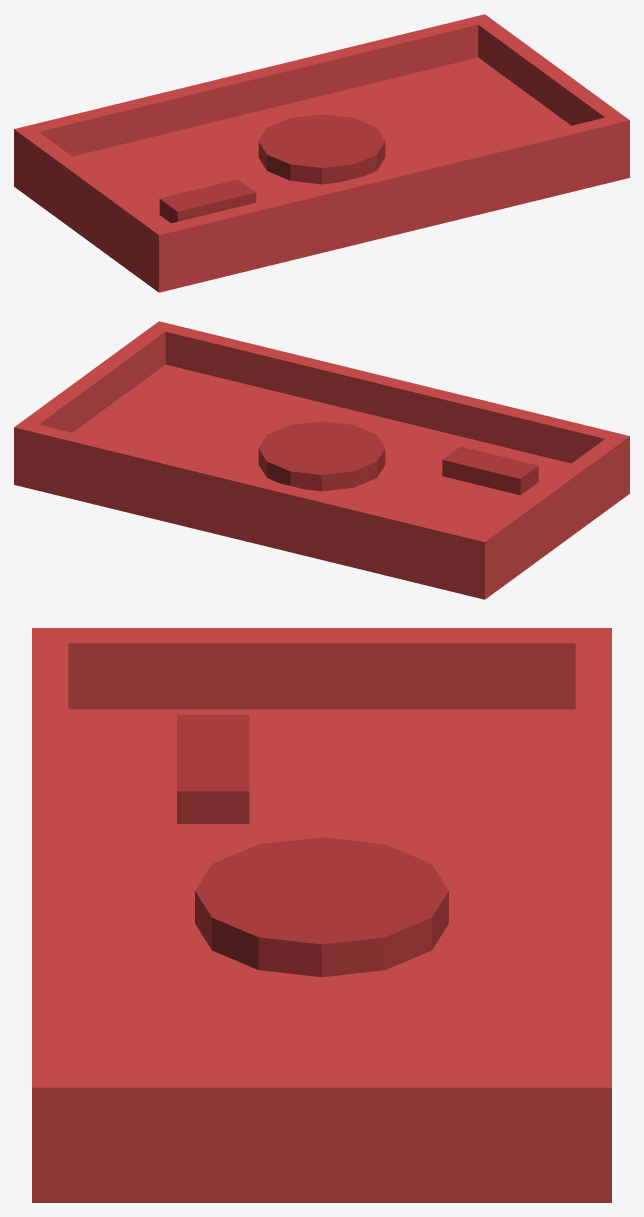
The model's file is bill_mold.glb.
3 views of the same model, one above another, from view 1: azimuth 30°, elevation 25°; view 2: azimuth 150°, elevation 25°; view 3: azimuth 270°, elevation 25° (orthographic). The views are drawn at different scales.
Parts seen in each view (by area): view 1: rim_mold_red, base_mold_red, relief_mold_relief (×2); view 2: rim_mold_red, base_mold_red, relief_mold_relief (×2); view 3: base_mold_red, rim_mold_red, relief_mold_relief (×2).
Part boxes in pixels (<box>): rim_mold_red: <box>14,14,629,292</box>; base_mold_red: <box>14,57,629,292</box>; relief_mold_relief (×2): <box>159,114,385,223</box>; rim_mold_red: <box>14,321,629,599</box>; base_mold_red: <box>14,364,629,599</box>; relief_mold_relief (×2): <box>258,421,538,495</box>; base_mold_red: <box>32,709,611,1202</box>; rim_mold_red: <box>32,628,611,1202</box>; relief_mold_relief (×2): <box>177,714,448,977</box>.
Size of the model in its own units: 0.3 by 0.035 by 0.16.
